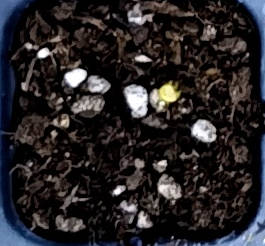pepper seed: (67, 31, 250, 135)
